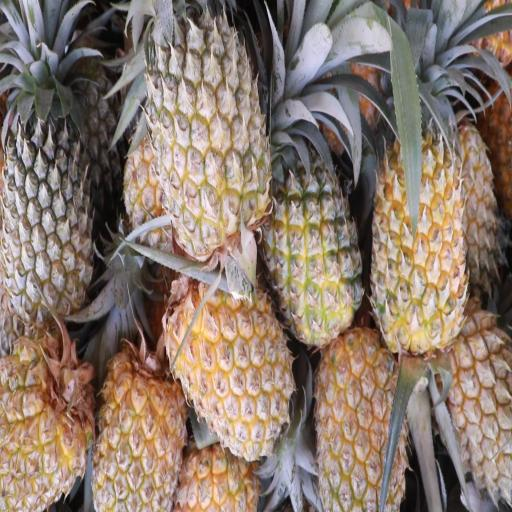------------------------------: (139, 0, 272, 269), (262, 101, 367, 354)
Pineapple - v8 v1: (366, 63, 472, 363), (165, 246, 300, 466), (314, 317, 416, 511), (0, 326, 104, 512), (92, 337, 192, 511), (445, 504, 451, 512)
